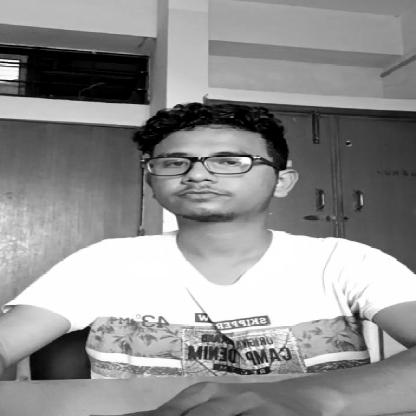Normal: (152, 105, 294, 230)
